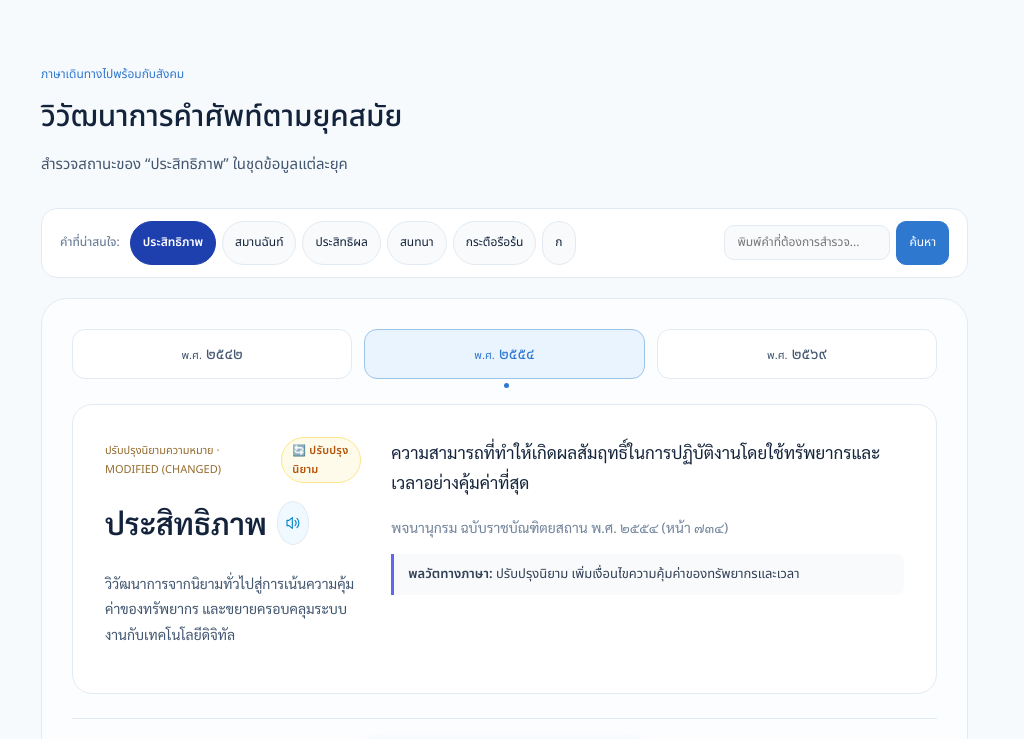
Test: EvolutionExplorer Component › switches tabs and displays definitions for each era
Click the tab "พ.ศ. ๒๕๔๒" at (212, 354), box [72, 329, 352, 379]
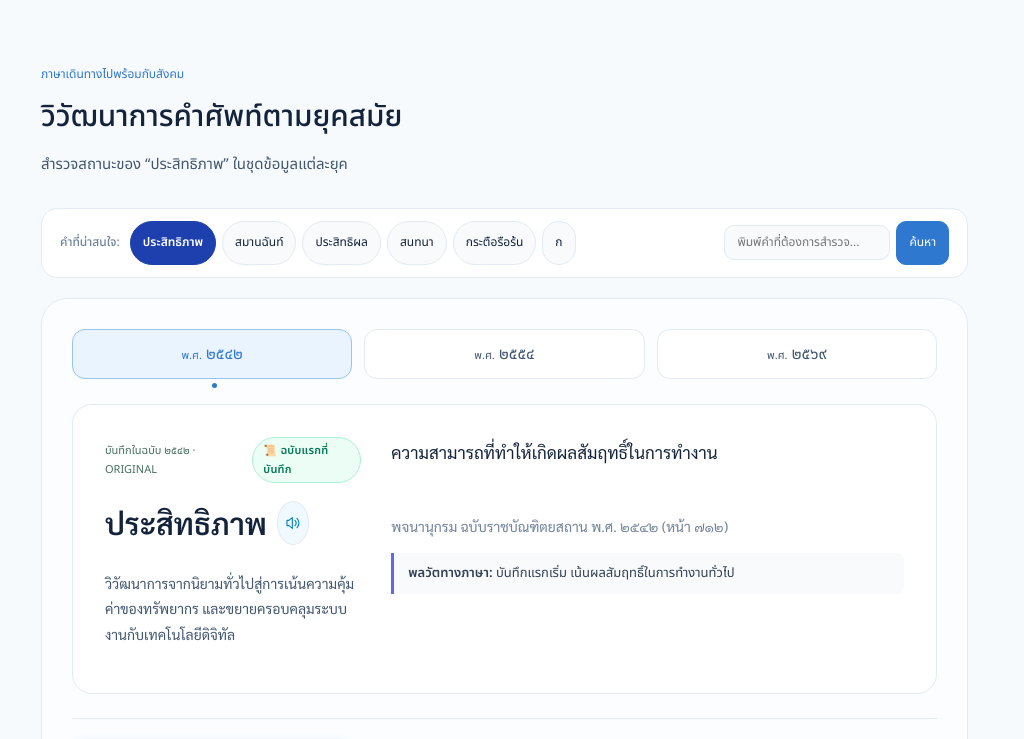
Expected: the text with class "era-status" shows "บันทึกในฉบับ ๒๕๔๒", [105, 442, 196, 478]
Expected: the text "ความสามารถที่ทำให้เกิดผลสัมฤทธิ์ในการทำงาน" is shown, [391, 441, 718, 463]
Click the tab "พ.ศ. ๒๕๖๙" at (797, 354), box [657, 329, 937, 379]
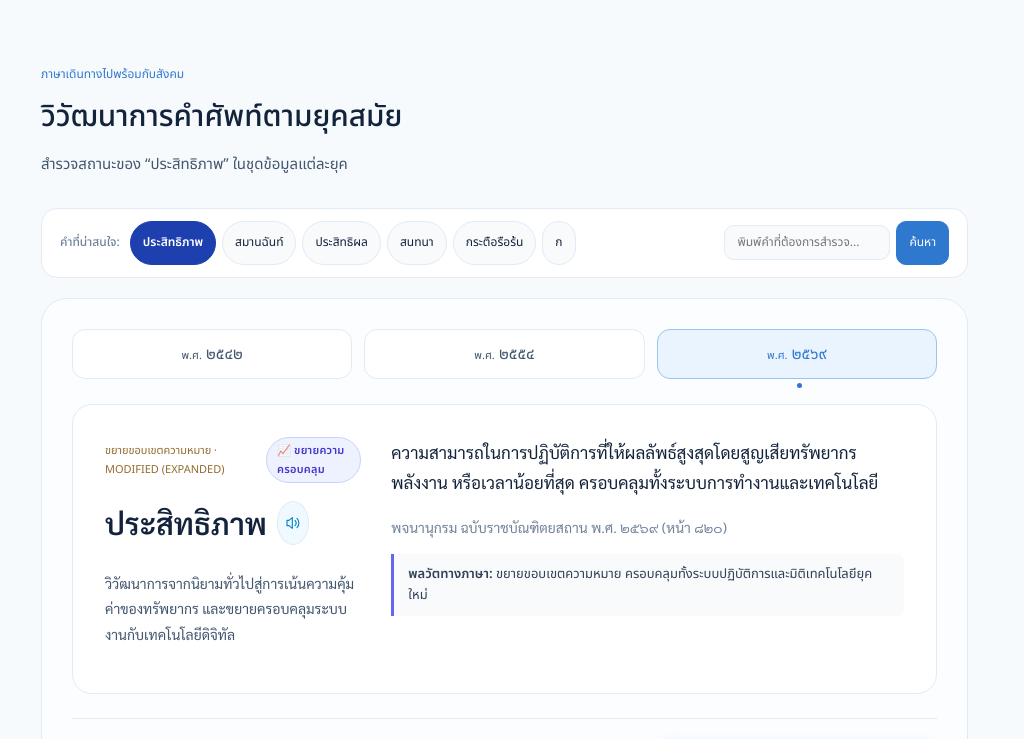
Expected: the text with class "era-status" shows "MODIFIED", [105, 442, 225, 478]
Expected: the text "ความสามารถในการปฏิบัติการที่ให้ผลลัพธ์สูงสุด" is shown, [391, 441, 878, 493]
